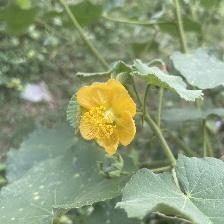indian mallow: (77, 79, 139, 157)
